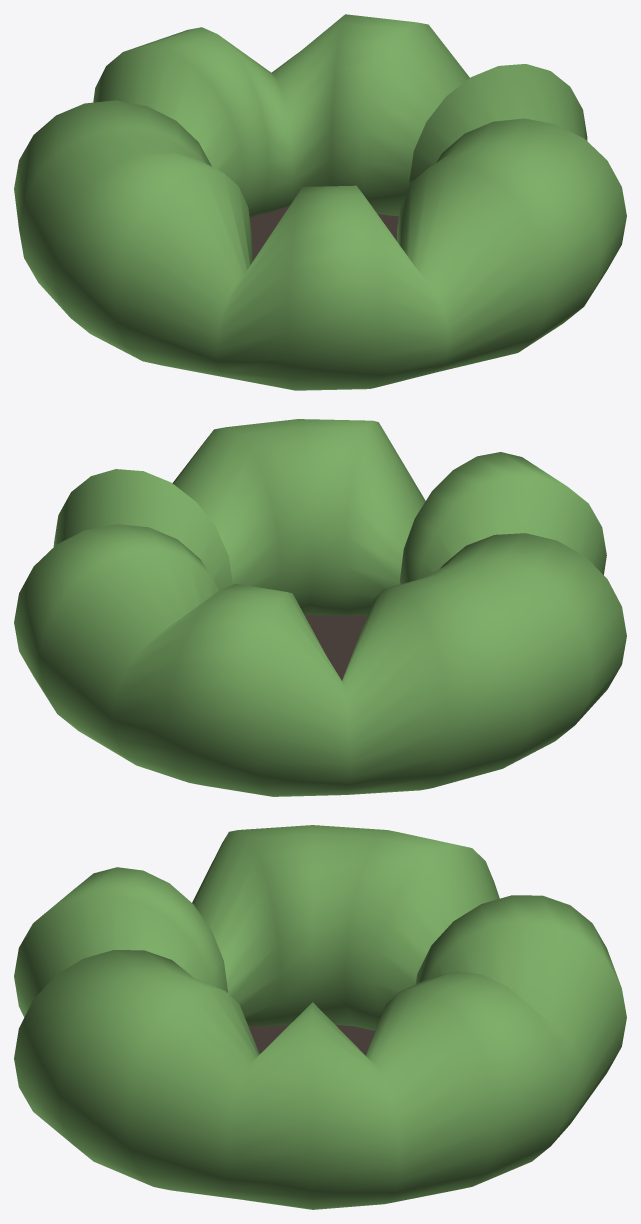
Rendered from BadringMedJord.fbx.
3 renders of one model, top to bottom at view 1: azimuth 30°, elevation 25°; view 2: azimuth 150°, elevation 25°; view 3: azimuth 270°, elevation 25°, orthographic.
Parts seen in each view (by area): view 1: badring1; view 2: badring1; view 3: badring1.
Boxes of the visible parts, x1=… form: badring1: x1=14, y1=14, x2=626, y2=390; badring1: x1=14, y1=419, x2=626, y2=796; badring1: x1=14, y1=825, x2=626, y2=1209.
Bounding box in the file's own units: 73.52 × 25.12 × 71.72.
